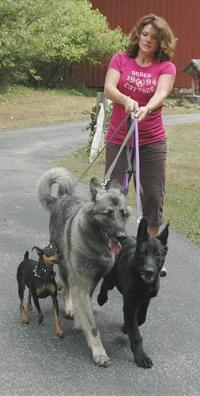person: (104, 15, 176, 242)
